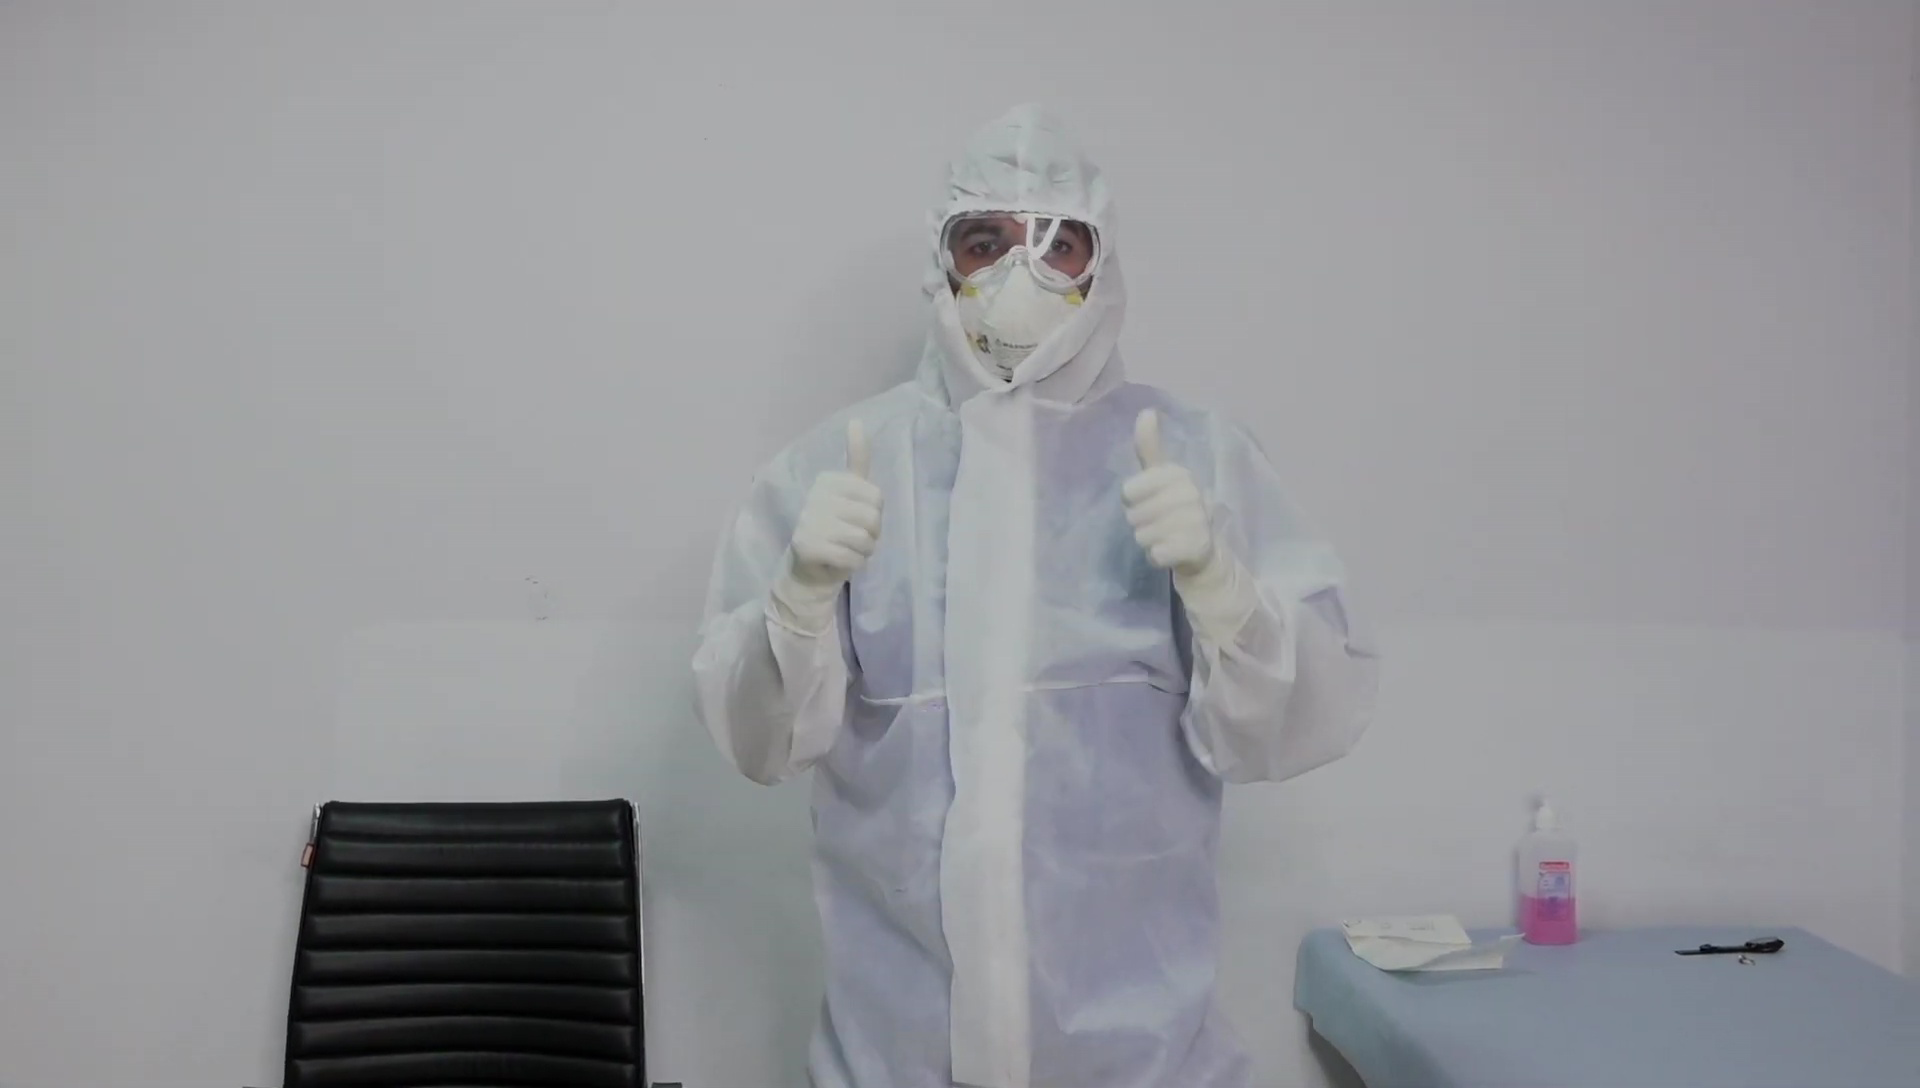Coverall: (693, 103, 1373, 1085)
Gloves: (791, 417, 888, 586), (1120, 407, 1215, 573)
Goggles: (935, 209, 1103, 296)
with_mask: (956, 253, 1083, 383)
